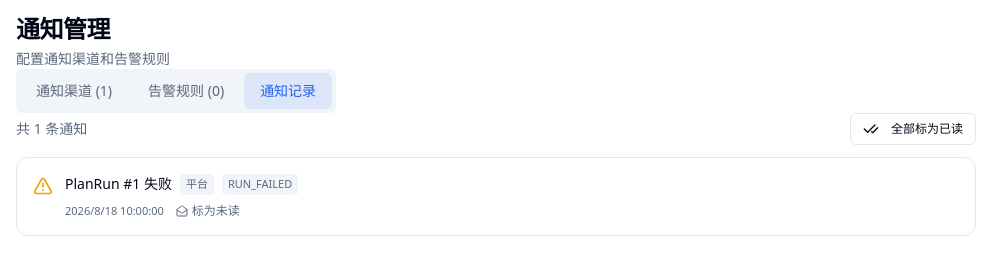
Test: NotificationsPage › 分页签 › 自动切换只发生一次，用户切回渠道后不会被再次拽走
The image size is (993, 256).
Expected: the text "共 1 条通知" is shown, [16,119,87,139]
Click the tab "通知渠道 (1)" at [74, 91], box [20,73,128,109]
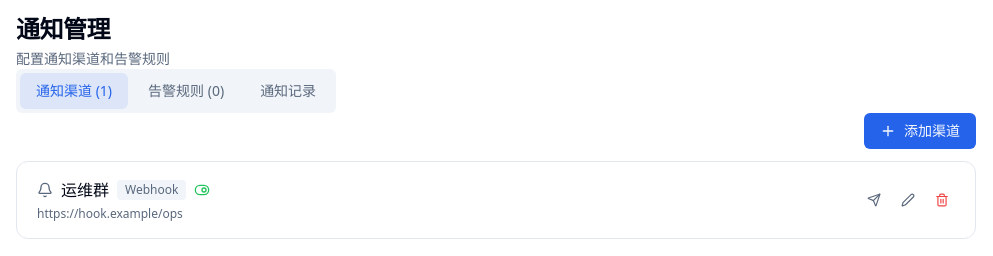
Expected: the text "运维群" is shown, [61,178,109,202]
Expected: the text "共 1 条通知" is gone
